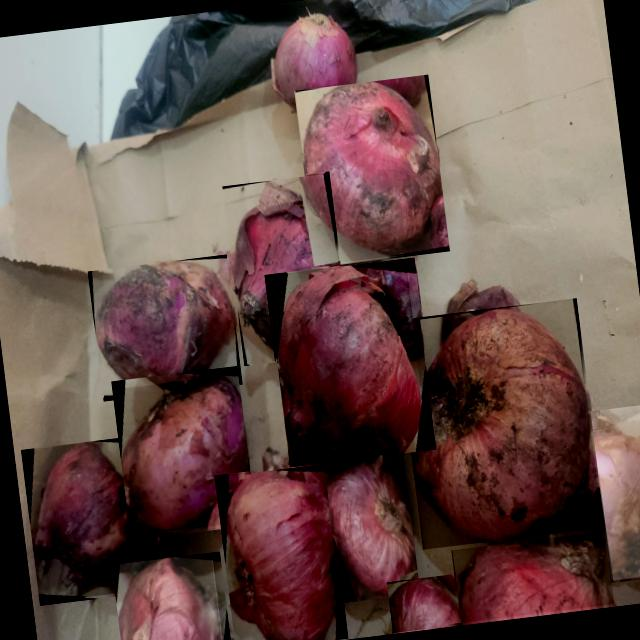healthy: (226, 470, 337, 640), (389, 578, 461, 631)
rotten: (411, 307, 591, 541), (280, 265, 422, 459), (304, 82, 442, 256), (31, 442, 159, 597), (121, 377, 248, 531), (234, 180, 339, 358), (96, 261, 236, 393), (326, 455, 417, 595), (458, 542, 614, 622), (590, 410, 640, 579), (119, 558, 221, 640)
